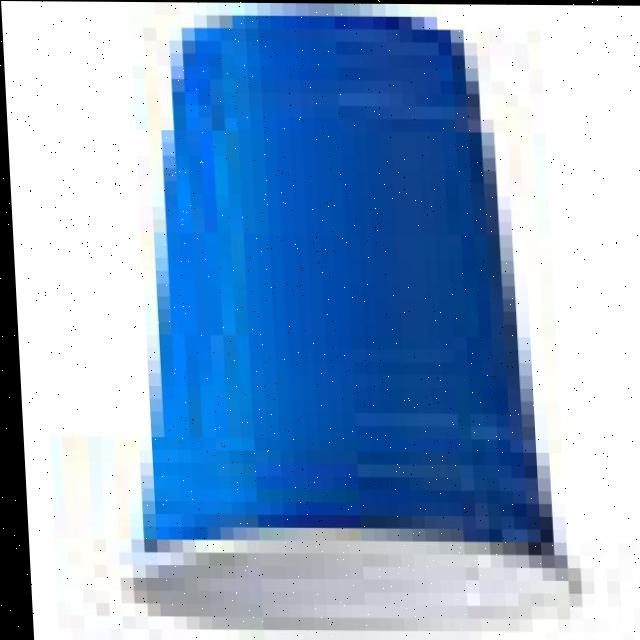cup: (84, 0, 580, 638)
